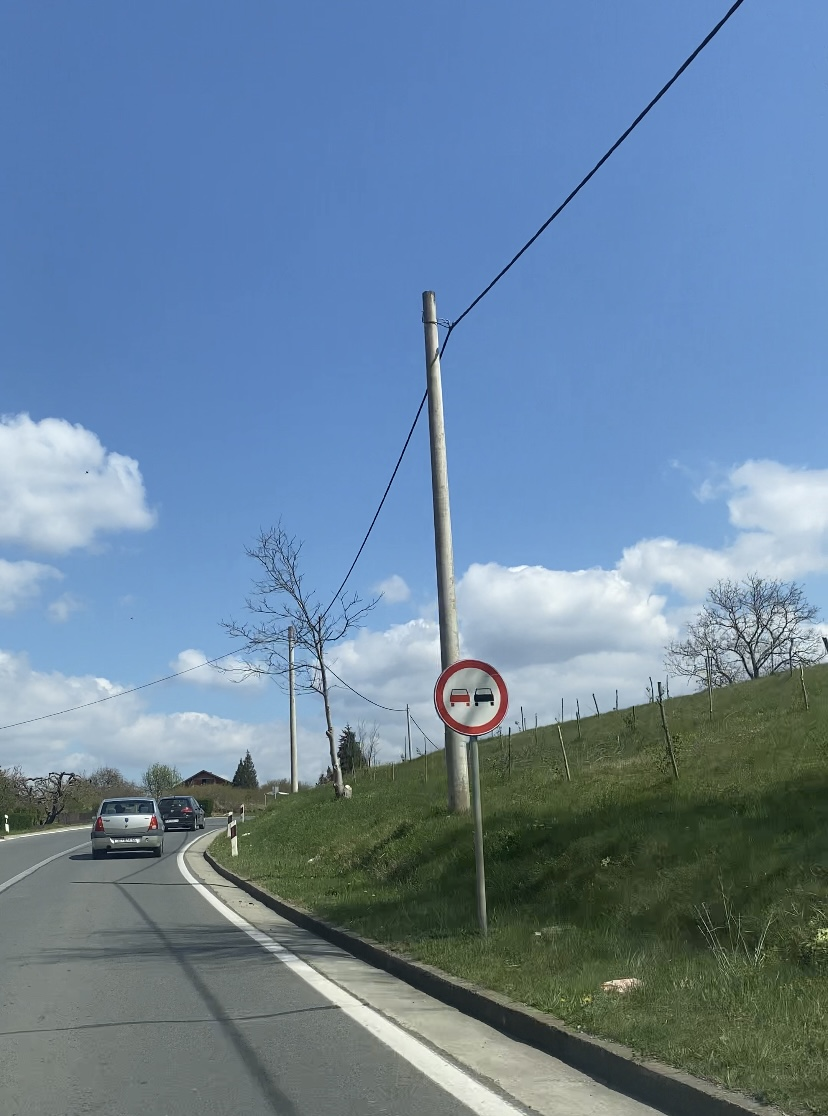Zabrana pretjecanja: (434, 659, 508, 735)
